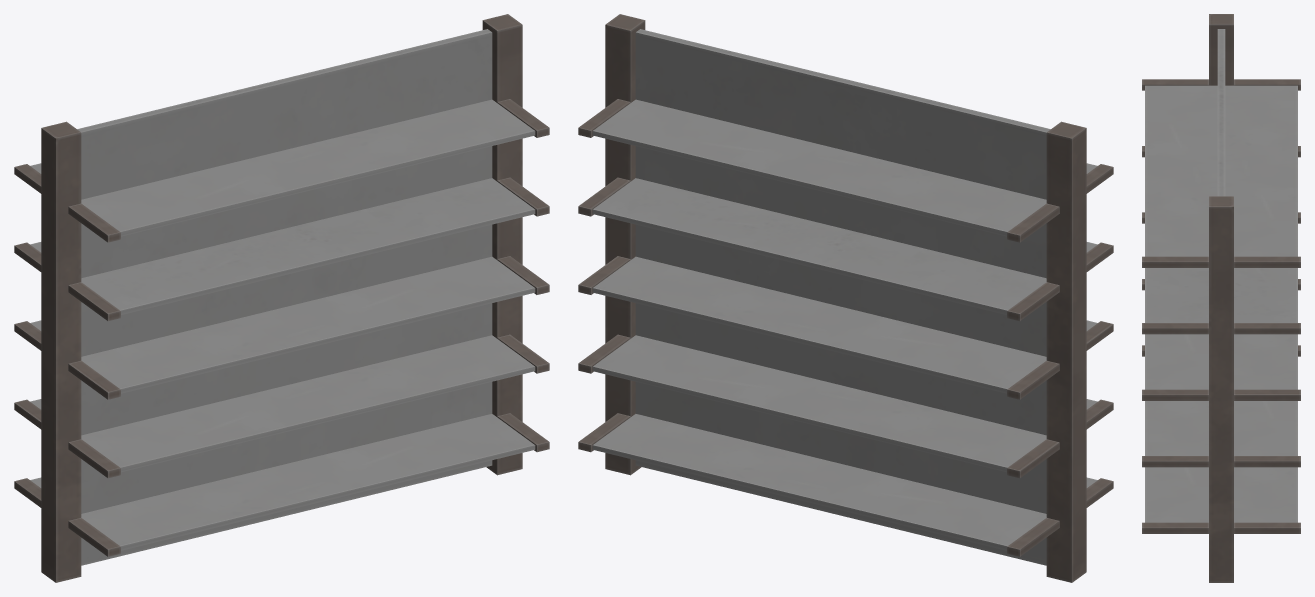
Rendered from SM_Props_Interior_02_2.glb.
The picture shows the model from 3 angles, left to right: view 1: azimuth 30°, elevation 25°; view 2: azimuth 150°, elevation 25°; view 3: azimuth 270°, elevation 25°; orthographic projection. The views are drawn at different scales.
Parts seen in each view (by area): view 1: SM_Props_Interior_02; view 2: SM_Props_Interior_02; view 3: SM_Props_Interior_02.
Part boxes in pixels (x1=…): SM_Props_Interior_02: x1=14, y1=14, x2=549, y2=582; SM_Props_Interior_02: x1=578, y1=14, x2=1113, y2=582; SM_Props_Interior_02: x1=1142, y1=14, x2=1300, y2=582.
Size of the model in its own units: 2.2 by 2 by 0.7647.
1 material, 1 textured.
